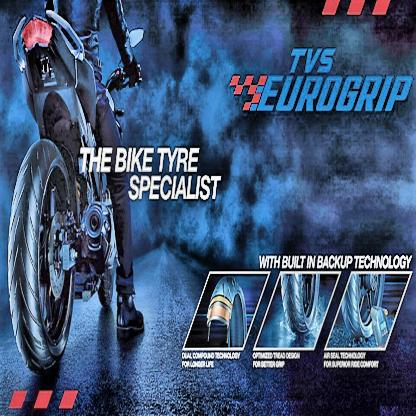TVS Eurogrip: (230, 45, 414, 115)
